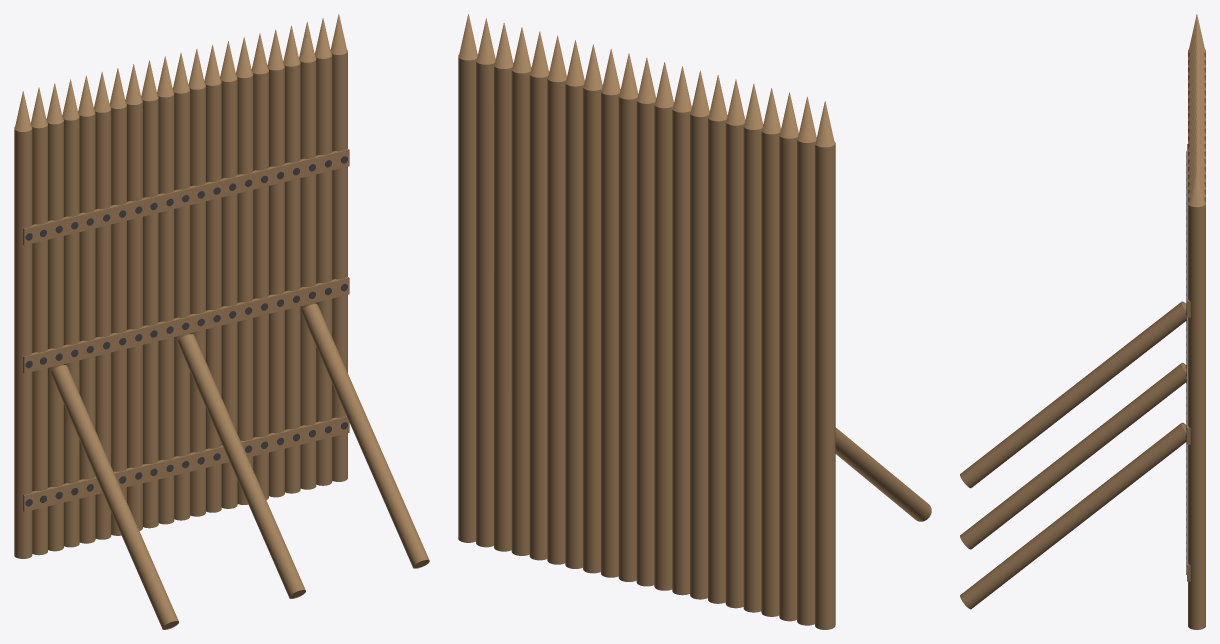
File: medieval-wooden-palisade.glb
3 renders of one model, left to right at view 1: azimuth 30°, elevation 25°; view 2: azimuth 150°, elevation 25°; view 3: azimuth 270°, elevation 25°, orthographic. The views are drawn at different scales.
Visible parts, largest first — view 1: Cylinder.021, Cylinder.010, Cylinder.011, Cylinder.019, Cylinder.018, Cylinder.009, Cylinder.017, Cylinder.002, Cylinder.006, Cylinder.008, Cylinder.014, Cylinder.016 (+16 smaller); view 2: Cylinder.021, Cylinder.004, Cylinder.016, Cylinder.006, Cylinder.017, Cylinder.005, Cylinder.010, Cylinder.012, Cylinder.011, Cylinder.018, Cylinder.014, Cylinder.003 (+10 smaller); view 3: Cylinder.022, Cylinder.001, Cylinder.024, Cylinder.023, Cylinder.064.
Boxes of the visible parts, box(x1,y1,x2,y2) form: Cylinder.021: box(14, 91, 32, 558); Cylinder.010: box(157, 56, 174, 524); Cylinder.011: box(172, 53, 190, 520); Cylinder.019: box(299, 21, 316, 489); Cylinder.018: box(283, 26, 300, 493); Cylinder.009: box(141, 60, 158, 528); Cylinder.017: box(267, 29, 284, 497); Cylinder.002: box(30, 87, 47, 555); Cylinder.006: box(93, 72, 111, 539); Cylinder.008: box(125, 64, 142, 530); Cylinder.014: box(220, 41, 237, 508); Cylinder.016: box(251, 33, 268, 499); Cylinder.021: box(815, 101, 835, 629); Cylinder.004: box(761, 88, 781, 616); Cylinder.016: box(547, 35, 566, 564); Cylinder.006: box(725, 79, 745, 608); Cylinder.017: box(529, 31, 549, 560); Cylinder.005: box(743, 84, 763, 612); Cylinder.010: box(654, 62, 673, 590); Cylinder.012: box(618, 53, 638, 581); Cylinder.011: box(636, 58, 656, 586); Cylinder.018: box(511, 27, 531, 555); Cylinder.014: box(583, 44, 602, 573); Cylinder.003: box(779, 92, 798, 621); Cylinder.022: box(1188, 167, 1205, 629); Cylinder.001: box(960, 301, 1186, 488); Cylinder.024: box(960, 422, 1186, 609); Cylinder.023: box(960, 362, 1186, 549); Cylinder.064: box(1186, 151, 1186, 574).
Bounding box in the file's own units: 41.98 × 56.18 × 27.25.
